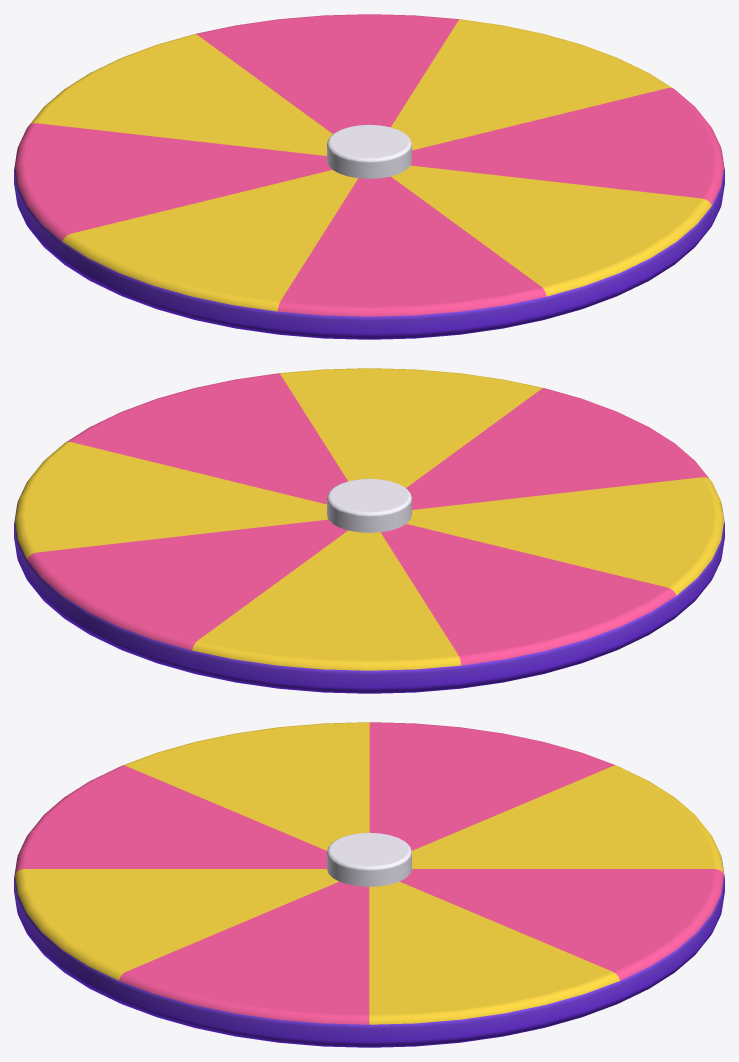
File: spinner_disc_10.glb
3 renders of one model, top to bottom at view 1: azimuth 30°, elevation 25°; view 2: azimuth 150°, elevation 25°; view 3: azimuth 270°, elevation 25°, orthographic.
Parts seen in each view (by area): view 1: spinner_disc_10; view 2: spinner_disc_10; view 3: spinner_disc_10.
Part boxes in pixels (x1,y1,x2,y2): spinner_disc_10: (14, 14, 724, 339); spinner_disc_10: (14, 368, 724, 693); spinner_disc_10: (14, 722, 724, 1047).
Bounding box in the file's own units: 10 × 0.8 × 10.
1 material, 1 textured.
